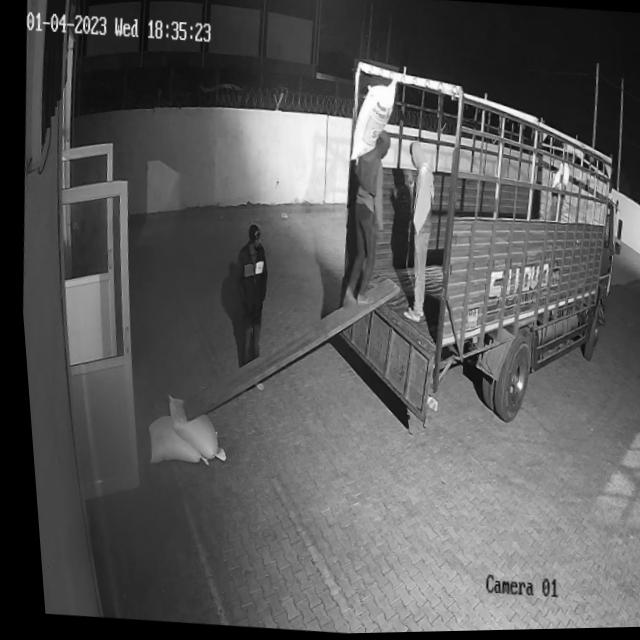sack: (341, 77, 399, 167), (155, 391, 224, 463), (137, 413, 204, 468)
